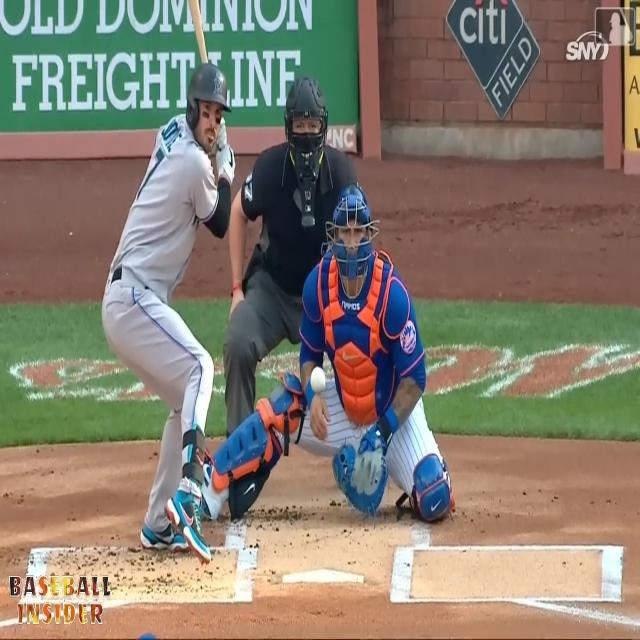baseball: (310, 365, 326, 396)
